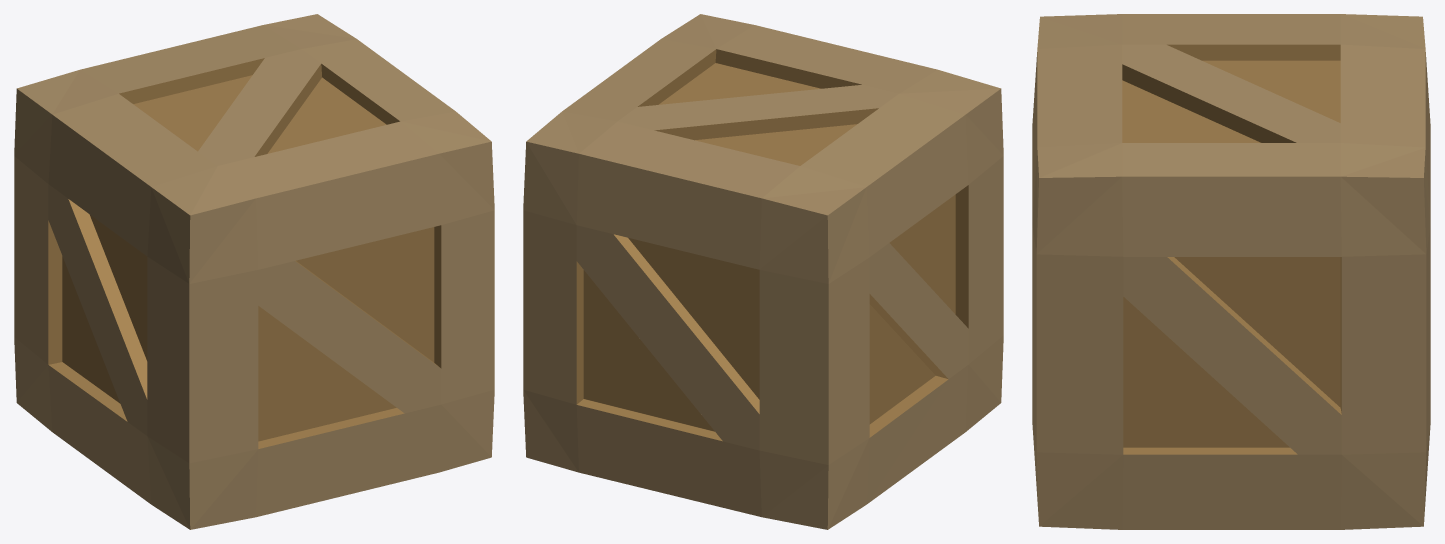
The model's file is crate.fbx.
3 renders of one model, left to right at view 1: azimuth 30°, elevation 25°; view 2: azimuth 150°, elevation 25°; view 3: azimuth 270°, elevation 25°, orthographic. The views are drawn at different scales.
Visible parts, largest first — view 1: pCube1; view 2: pCube1; view 3: pCube1.
Boxes of the visible parts, <box> form: pCube1: <box>14,14,494,529</box>; pCube1: <box>523,14,1003,529</box>; pCube1: <box>1032,14,1430,529</box>.
Size of the model in its own units: 6.68 by 6.68 by 6.68.
